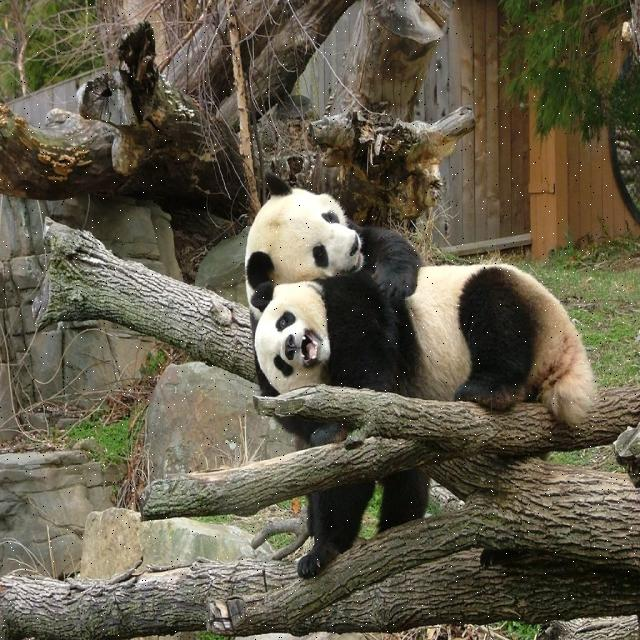panda: (241, 165, 422, 579), (249, 259, 597, 429)
